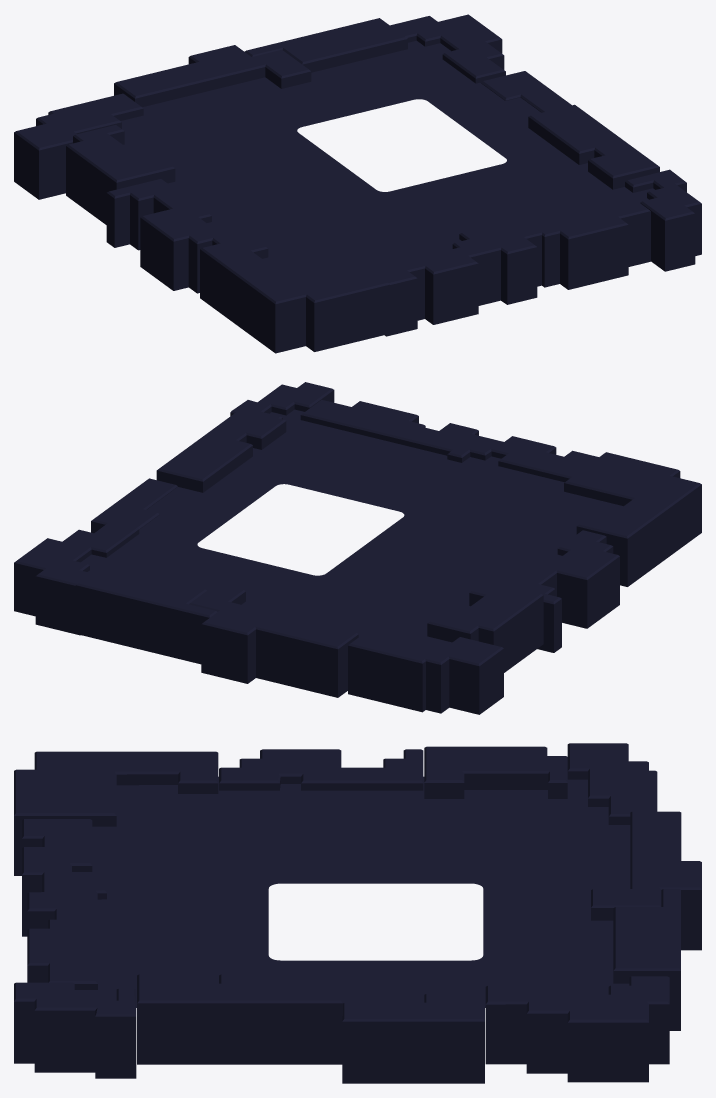
Rendered from PuzFloor.fbx.
The picture shows the model from 3 angles, top to bottom: view 1: azimuth 30°, elevation 25°; view 2: azimuth 150°, elevation 25°; view 3: azimuth 270°, elevation 25°; orthographic projection. The views are drawn at different scales.
Visible parts, largest first — view 1: Genre.003_RPanel.001, Genre.001; view 2: Genre.003_RPanel.001, Genre.001; view 3: Genre.003_RPanel.001, Genre.001.
Boxes of the visible parts, bbox=[...] form: Genre.003_RPanel.001: bbox=[14, 14, 701, 353]; Genre.001: bbox=[120, 40, 654, 269]; Genre.003_RPanel.001: bbox=[14, 382, 701, 714]; Genre.001: bbox=[81, 409, 623, 642]; Genre.003_RPanel.001: bbox=[14, 743, 701, 1083]; Genre.001: bbox=[72, 776, 630, 1007].
Bounding box in the file's own units: 1077 × 1135 × 145.
